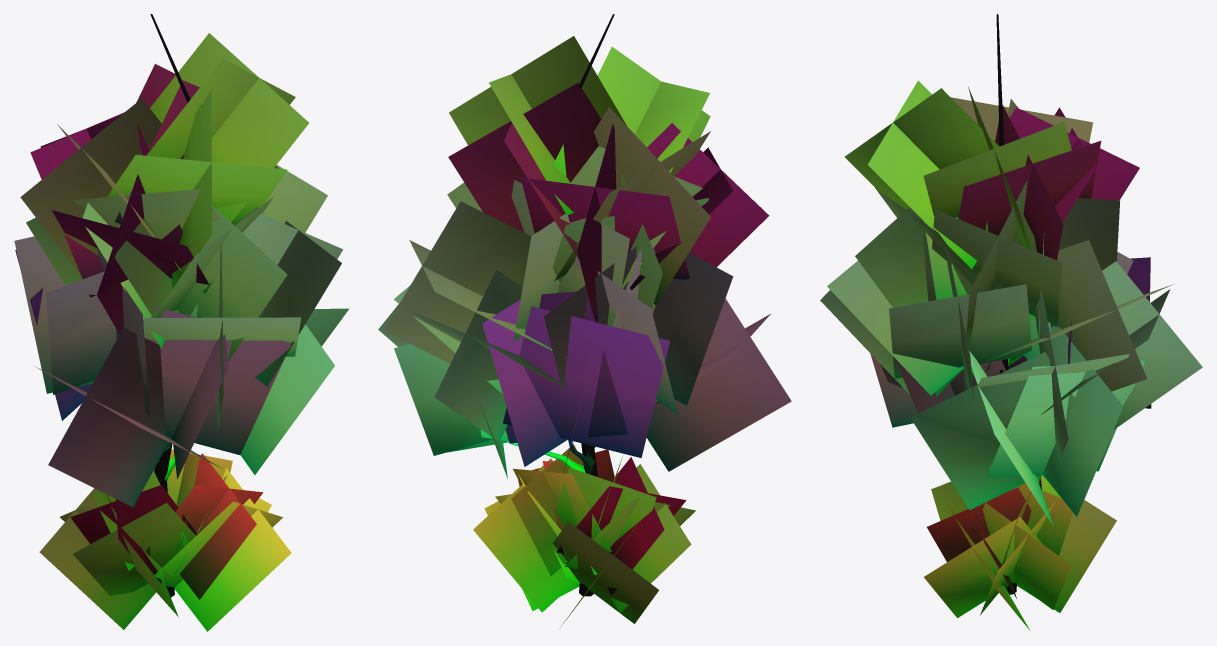
Rendered from URP_P12_Tree_4_LOD_3.fbx.
The picture shows the model from 3 angles, left to right: view 1: azimuth 30°, elevation 25°; view 2: azimuth 150°, elevation 25°; view 3: azimuth 270°, elevation 25°; orthographic projection. The views are drawn at different scales.
Visible parts, largest first — view 1: Tree_4_LOD_3; view 2: Tree_4_LOD_3; view 3: Tree_4_LOD_3.
Part boxes in pixels (x1,y1,x2,y2): Tree_4_LOD_3: (14, 14, 348, 631); Tree_4_LOD_3: (378, 14, 791, 627); Tree_4_LOD_3: (820, 14, 1202, 630).
Bounding box in the file's own units: 171 × 290 × 171.
